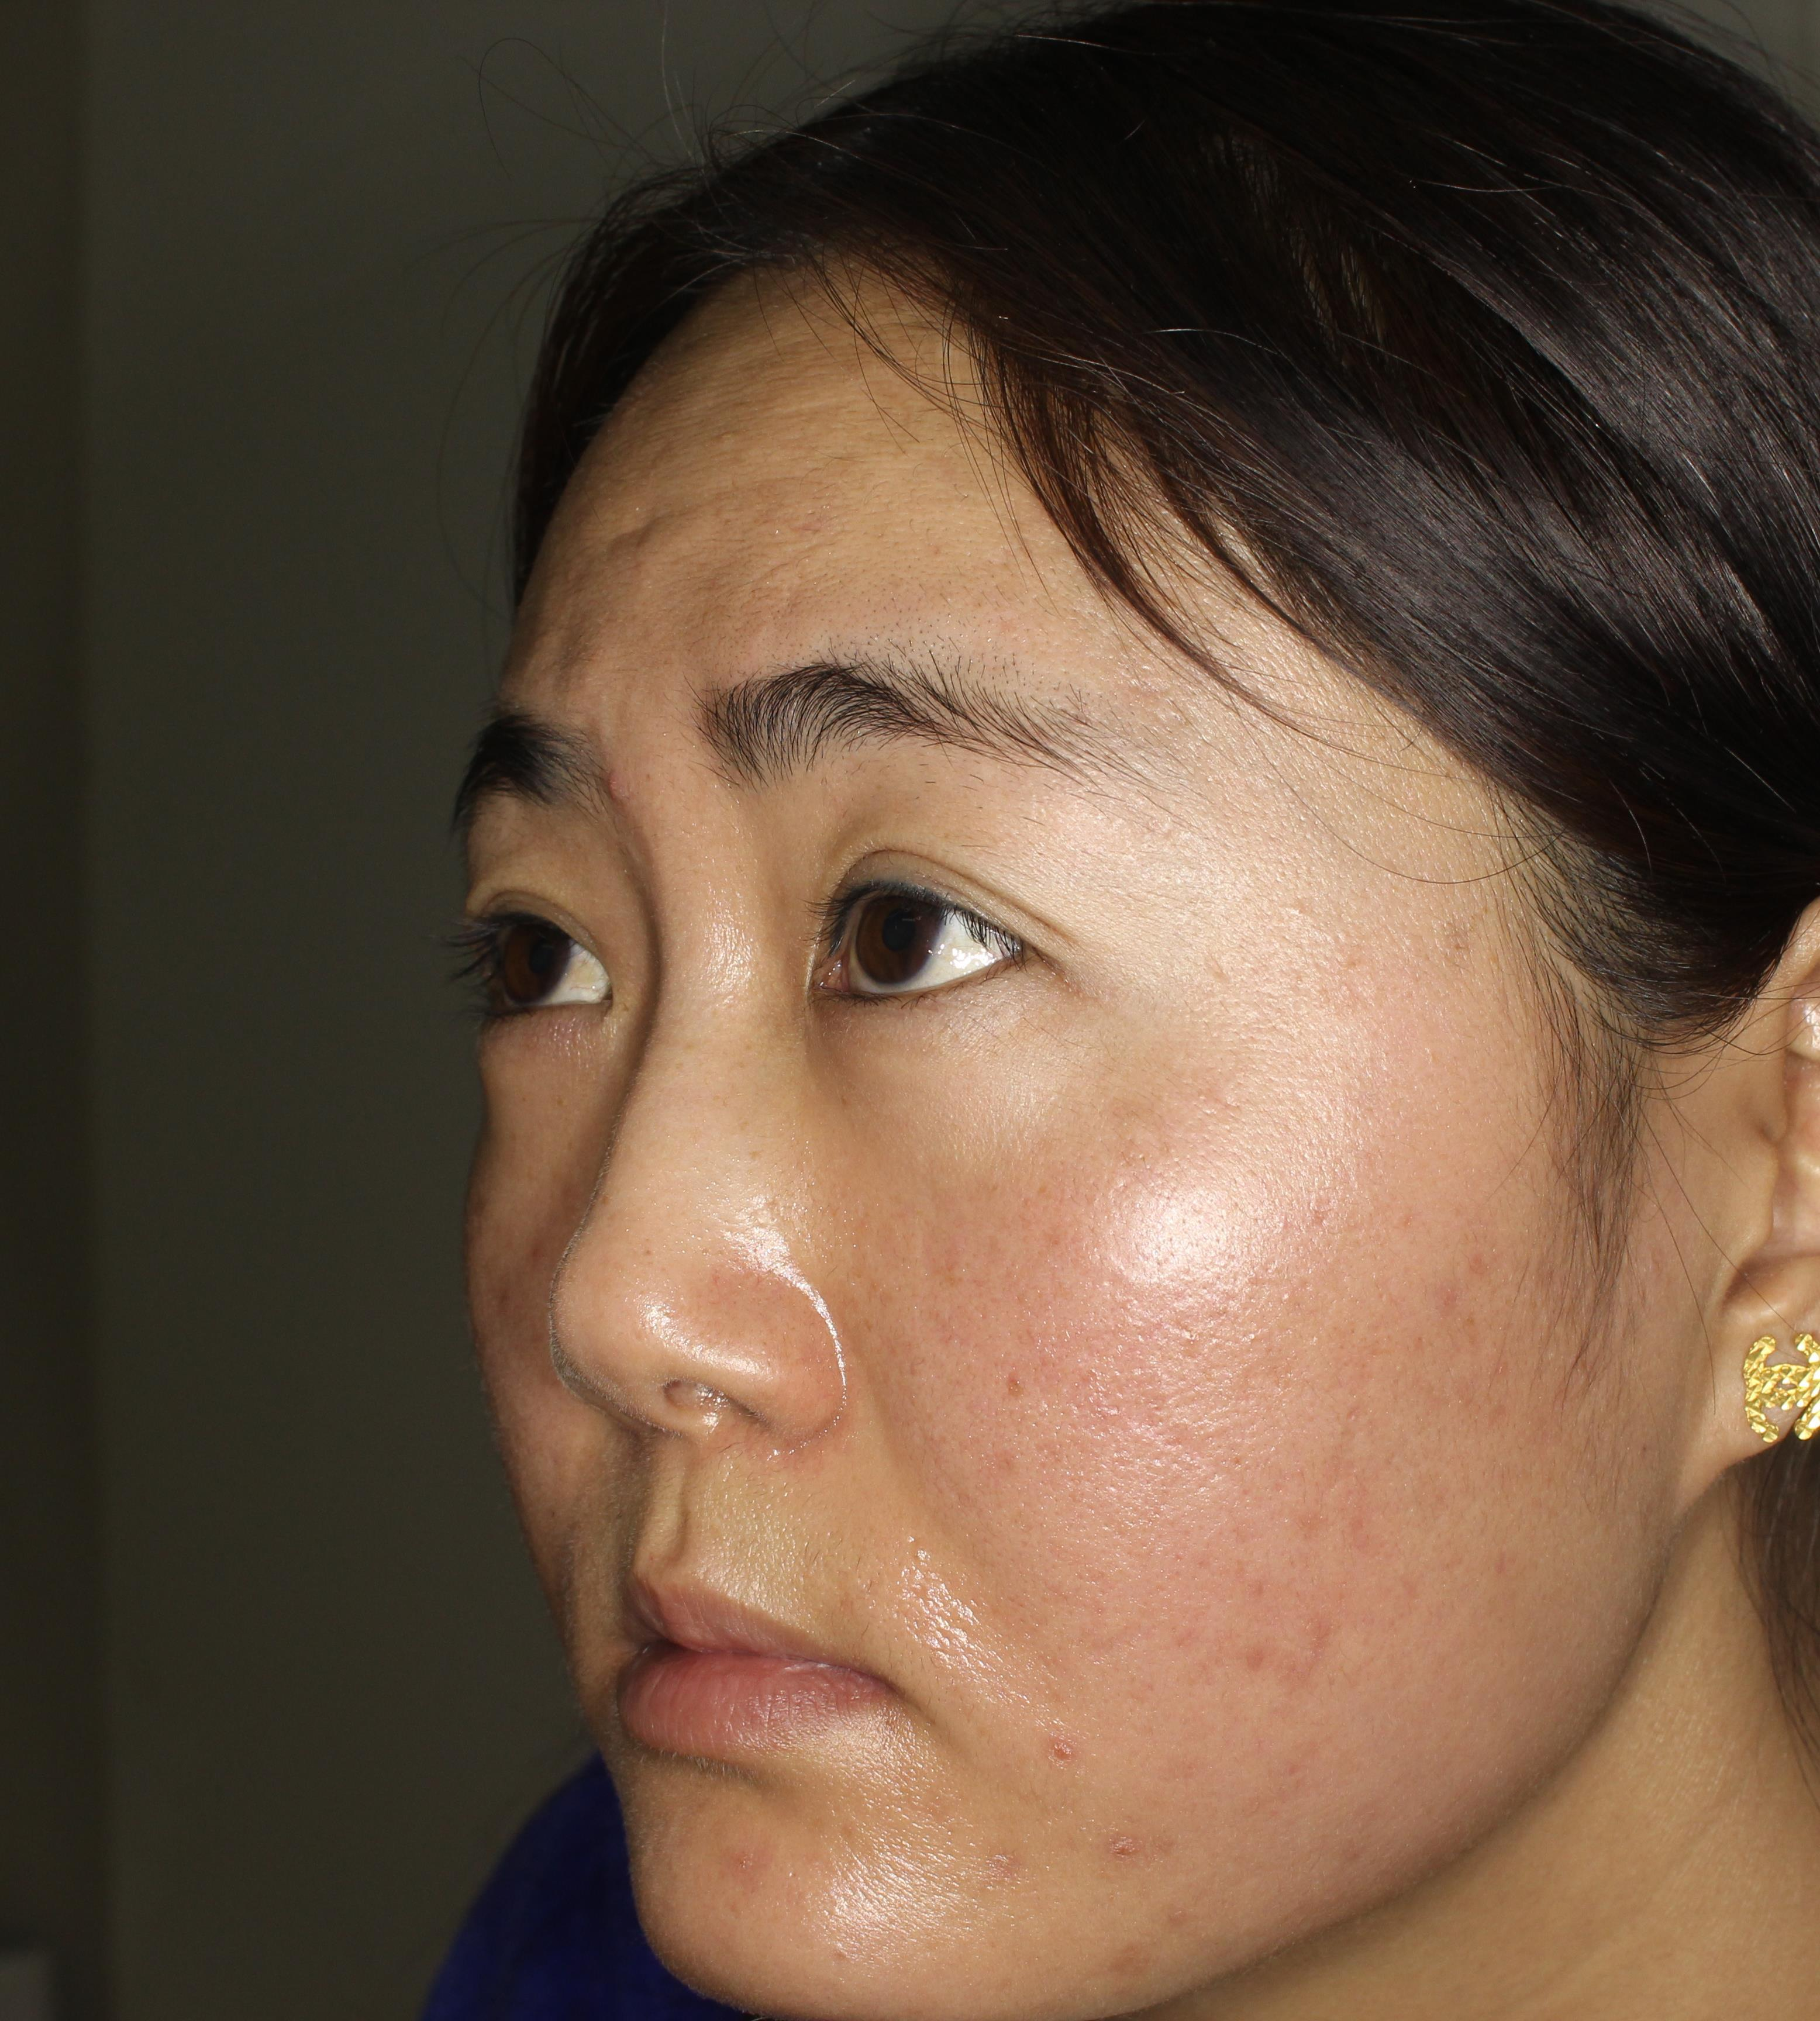fore: (1091, 1794, 1198, 1889)
